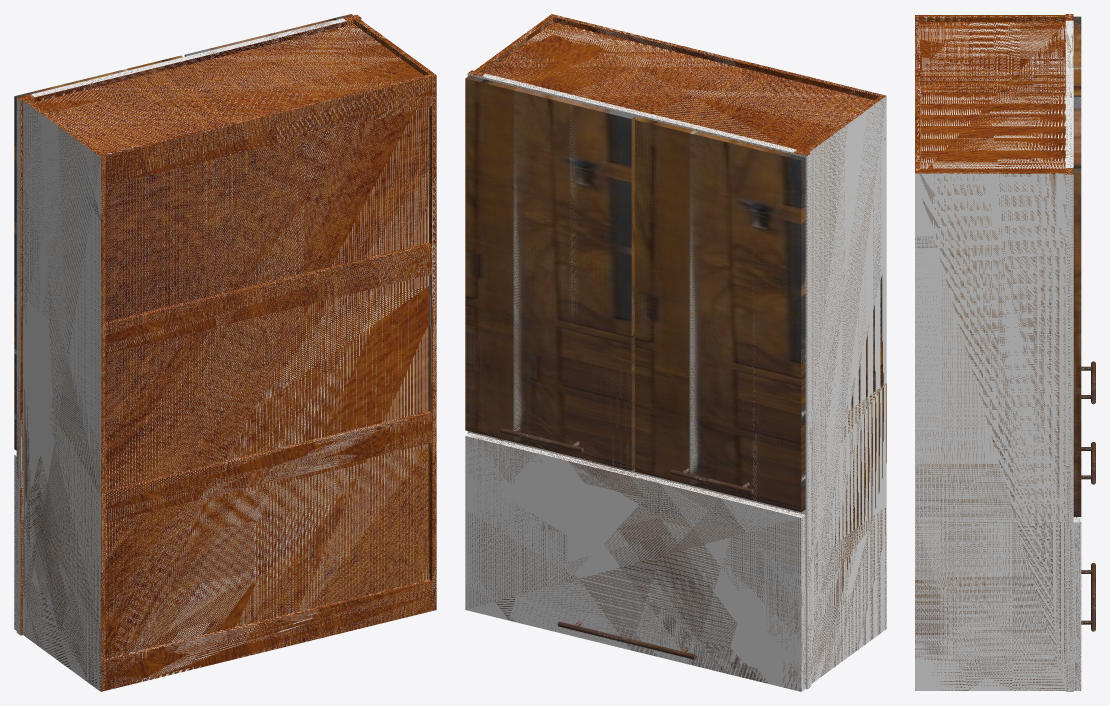
3 views of the same model, side by side, from view 1: azimuth 30°, elevation 25°; view 2: azimuth 150°, elevation 25°; view 3: azimuth 270°, elevation 25° (orthographic). The views are drawn at different scales.
Visible parts, largest first — view 1: mesh5_mesh5-geometry, mesh6_mesh6-geometry, mesh12_mesh12-geometry, mesh9_mesh9-geometry, mesh1_mesh1-geometry, mesh7_mesh7-geometry, mesh10_mesh10-geometry, mesh19_mesh19-geometry; view 2: mesh19_mesh19-geometry, mesh21_mesh21-geometry, mesh17_mesh17-geometry, mesh6_mesh6-geometry, mesh9_mesh9-geometry, mesh7_mesh7-geometry, mesh12_mesh12-geometry, mesh10_mesh10-geometry, mesh20_mesh20-geometry, mesh1_mesh1-geometry, mesh2_mesh2-geometry; view 3: mesh1_mesh1-geometry, mesh9_mesh9-geometry, mesh3_mesh3-geometry, mesh17_mesh17-geometry, mesh21_mesh21-geometry, mesh10_mesh10-geometry, mesh6_mesh6-geometry, mesh12_mesh12-geometry, mesh19_mesh19-geometry, mesh20_mesh20-geometry.
Part boxes in pixels (x1,y1,x2,y2): mesh5_mesh5-geometry: (105,107,429,658); mesh6_mesh6-geometry: (23,99,105,691); mesh12_mesh12-geometry: (103,74,431,690); mesh9_mesh9-geometry: (33,24,423,153); mesh1_mesh1-geometry: (354,18,436,610); mesh7_mesh7-geometry: (16,94,34,635); mesh10_mesh10-geometry: (31,18,346,101); mesh19_mesh19-geometry: (14,55,182,450); mesh19_mesh19-geometry: (635,117,805,512); mesh21_mesh21-geometry: (465,433,805,691); mesh17_mesh17-geometry: (465,75,635,470); mesh6_mesh6-geometry: (804,94,886,683); mesh9_mesh9-geometry: (484,22,873,151); mesh7_mesh7-geometry: (793,149,811,689); mesh12_mesh12-geometry: (553,15,881,99); mesh10_mesh10-geometry: (481,74,796,154); mesh20_mesh20-geometry: (557,621,696,659); mesh1_mesh1-geometry: (474,14,555,72); mesh2_mesh2-geometry: (481,434,793,511); mesh1_mesh1-geometry: (915,171,1065,690); mesh9_mesh9-geometry: (920,22,1065,171); mesh3_mesh3-geometry: (1065,168,1073,691); mesh17_mesh17-geometry: (1073,97,1081,516); mesh21_mesh21-geometry: (1073,517,1081,690); mesh10_mesh10-geometry: (1065,20,1073,167); mesh6_mesh6-geometry: (915,15,1065,21); mesh12_mesh12-geometry: (915,17,920,171); mesh19_mesh19-geometry: (1073,16,1081,96); mesh20_mesh20-geometry: (1091,563,1095,631).
Bounding box in the file's own units: 0.5363 × 0.8045 × 0.2551.
